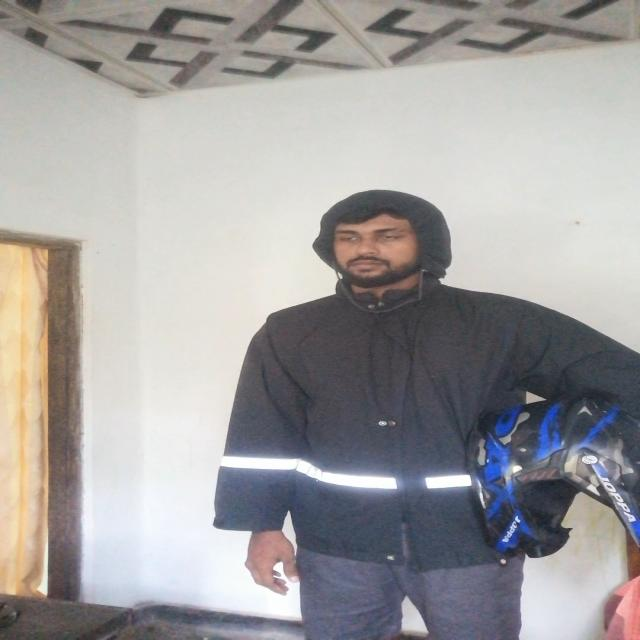Jacket_Wearer: (232, 303, 640, 581)
Person: (225, 186, 631, 640)
